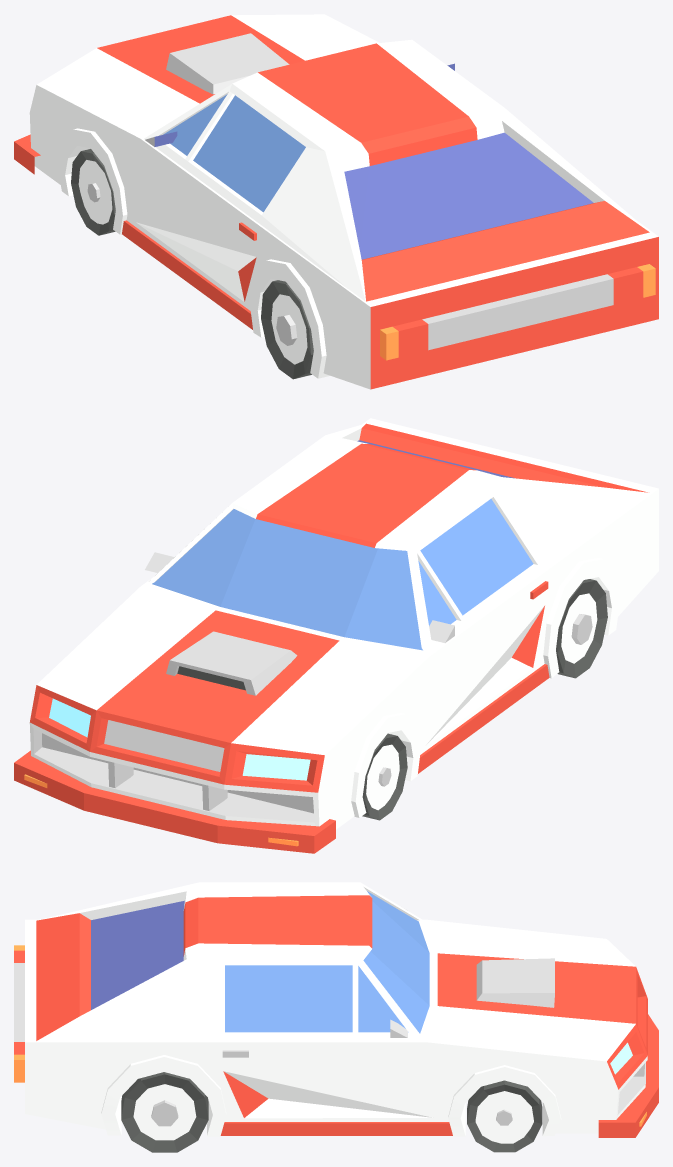
Rendered from transport_sport.002.glb.
The picture shows the model from 3 angles, top to bottom: view 1: azimuth 30°, elevation 25°; view 2: azimuth 150°, elevation 25°; view 3: azimuth 270°, elevation 25°; orthographic projection. The views are drawn at different scales.
Parts seen in each view (by area): view 1: transport_sport.002(Clone); view 2: transport_sport.002(Clone); view 3: transport_sport.002(Clone).
Part boxes in pixels (box(x1,y1,x2,y2)): transport_sport.002(Clone): box(14, 14, 658, 389); transport_sport.002(Clone): box(14, 418, 658, 853); transport_sport.002(Clone): box(14, 882, 658, 1152).
Size of the model in its own units: 1.81 by 1.11 by 3.84.
Materials: 1 (1 with a texture image).
